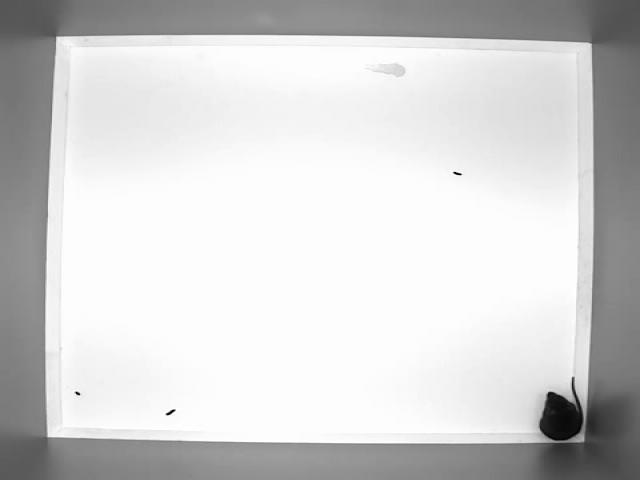Tikus: (540, 374, 585, 439)
